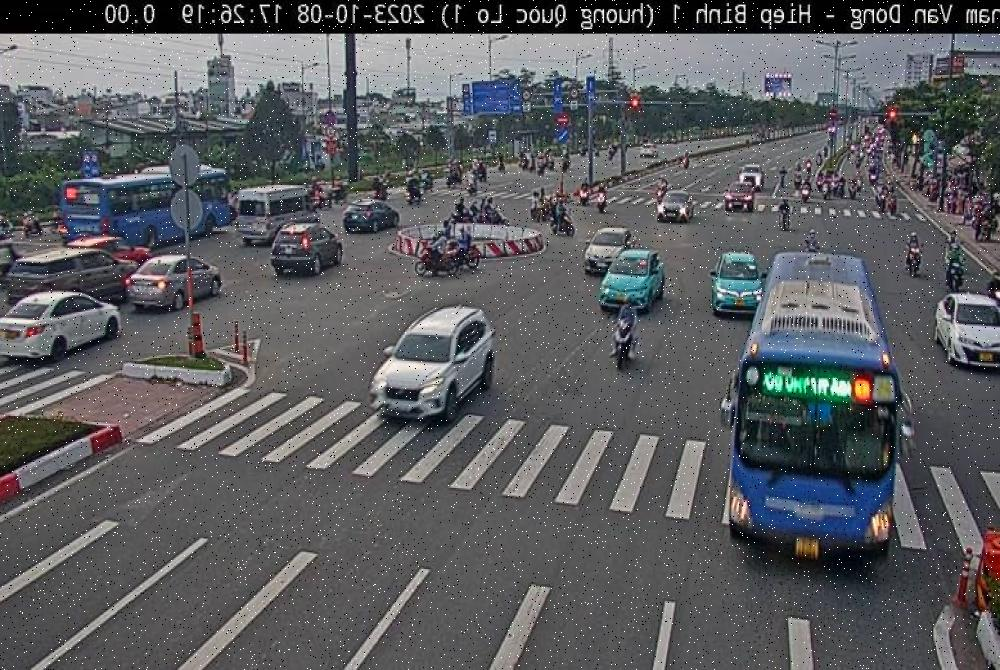bus: (722, 250, 901, 566), (60, 165, 232, 238)
car: (369, 306, 496, 418), (0, 292, 120, 356), (4, 248, 137, 303), (236, 184, 322, 248), (127, 256, 222, 312), (934, 294, 1000, 370), (597, 248, 664, 311), (271, 223, 343, 277), (710, 249, 764, 313), (584, 229, 636, 275), (342, 199, 399, 233), (655, 188, 695, 224), (724, 182, 755, 212)
